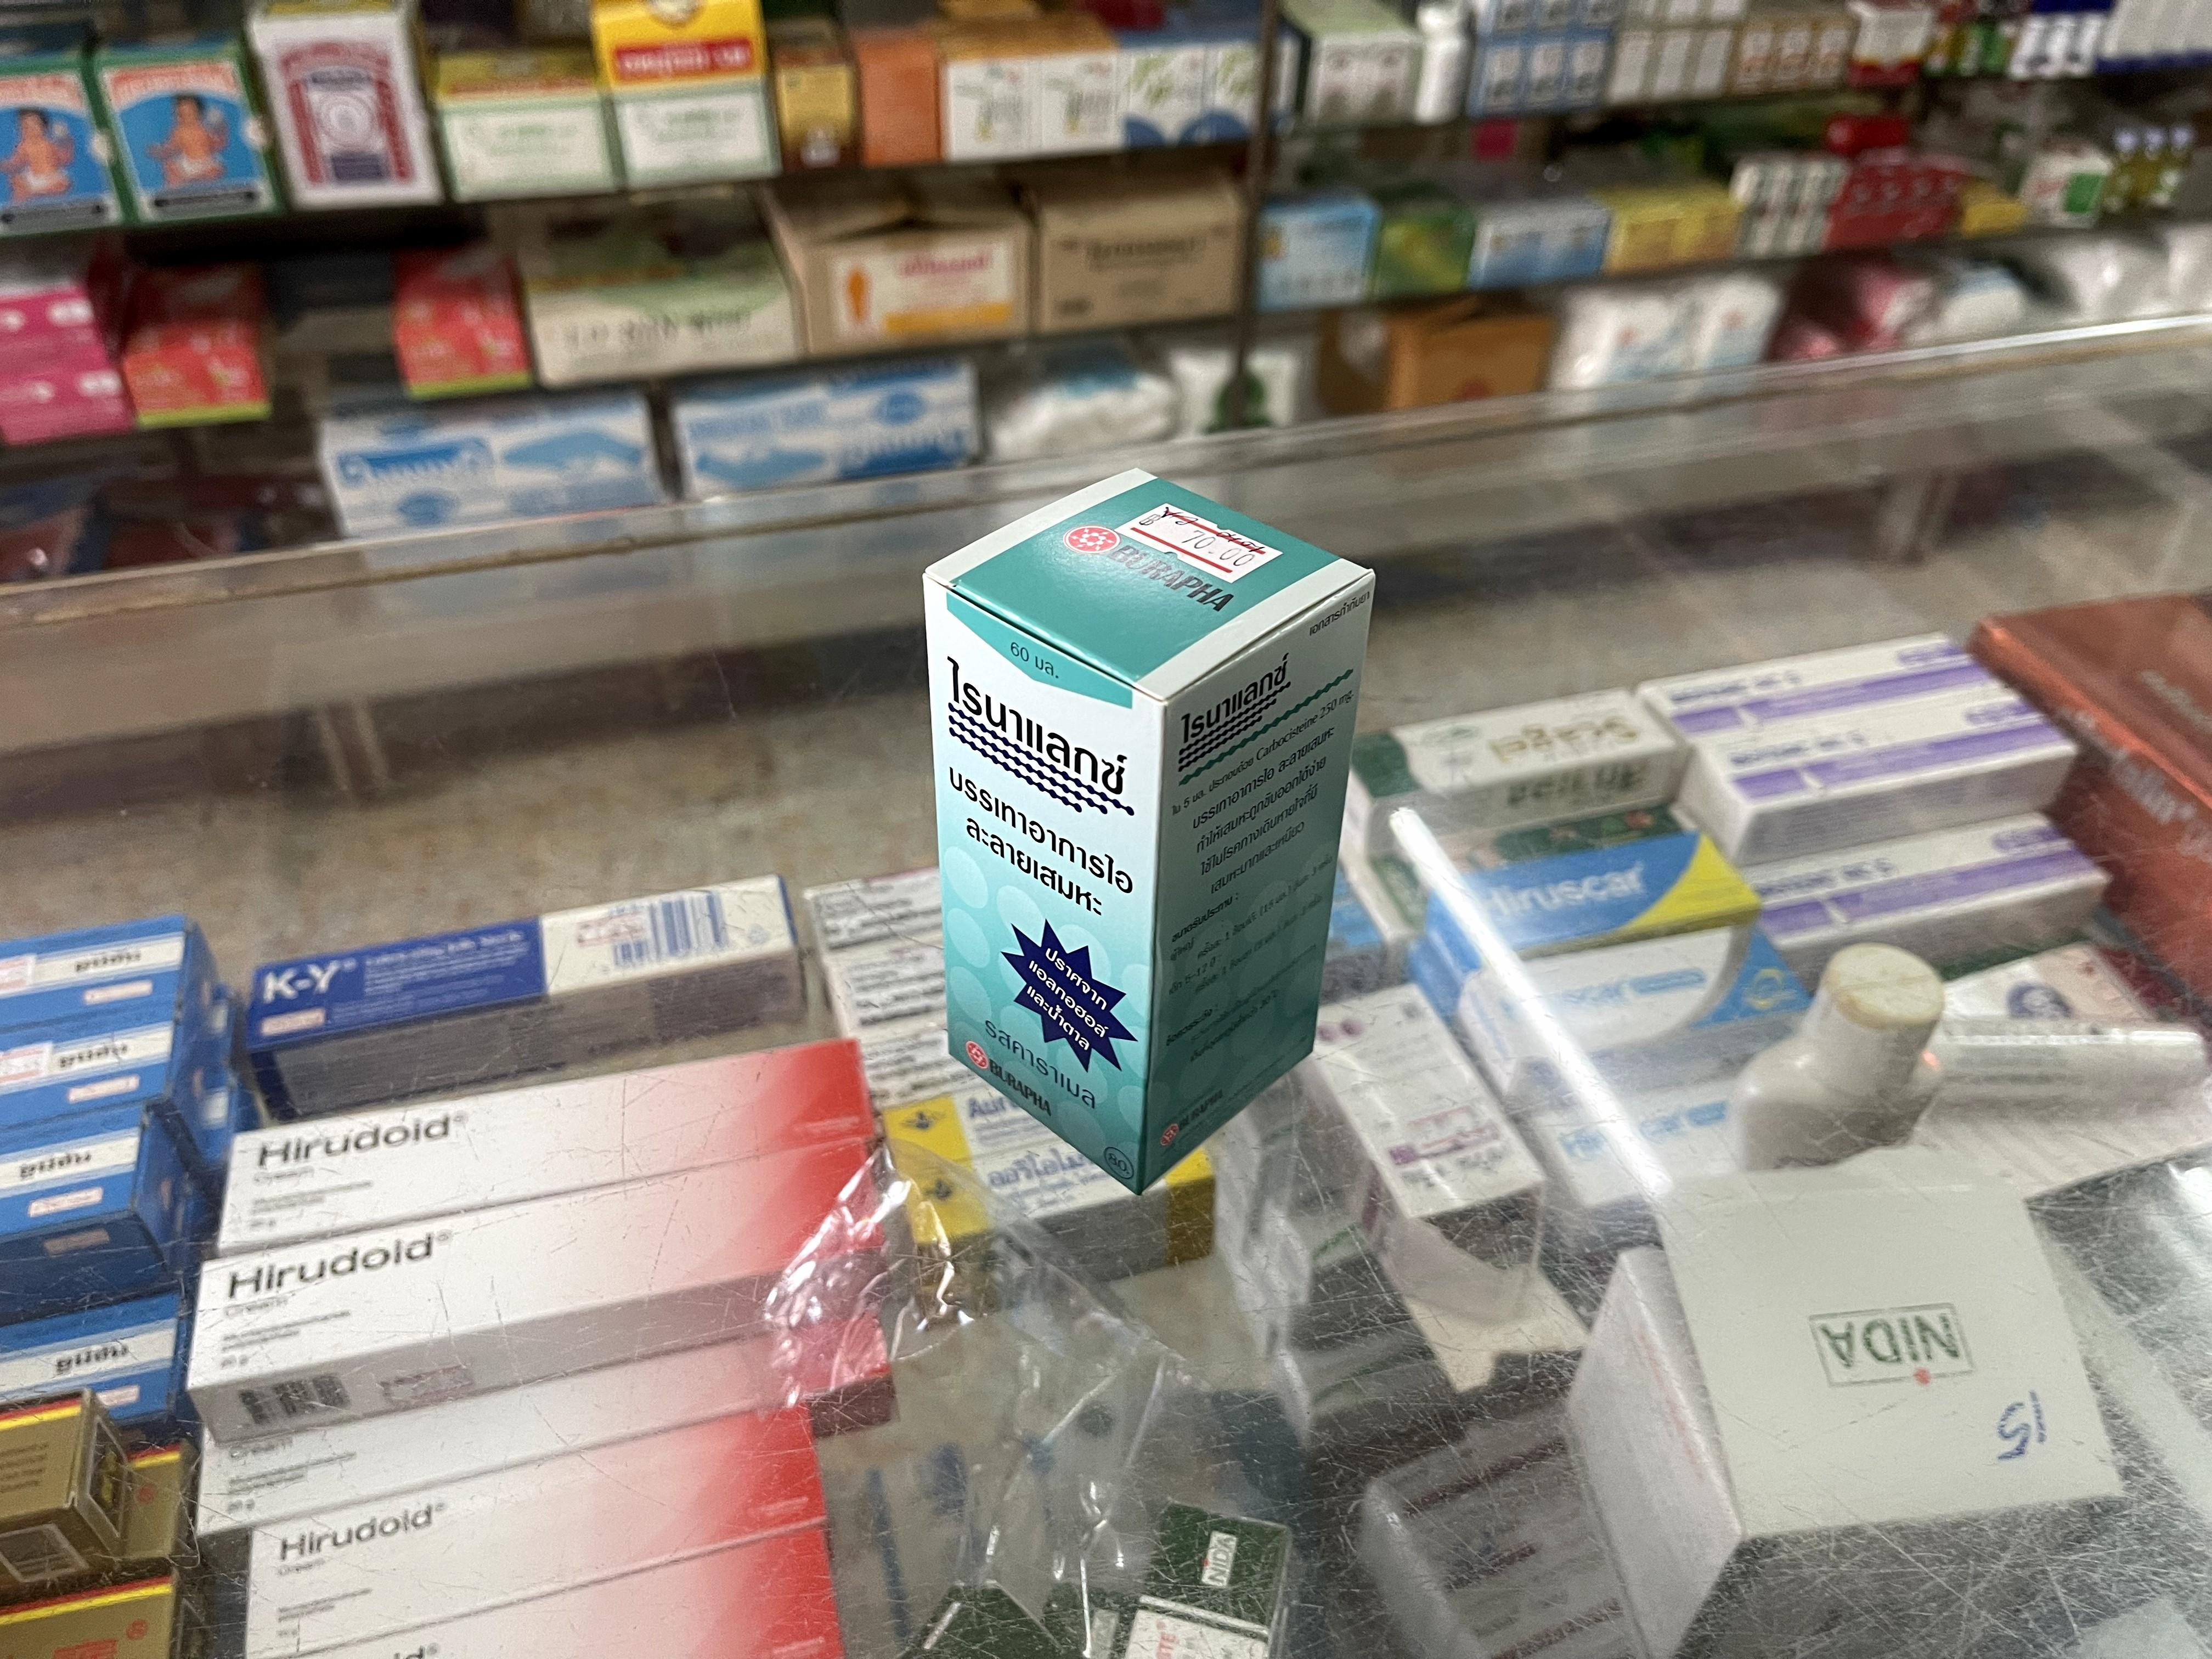Rhinalax: (920, 464, 1374, 1195)
